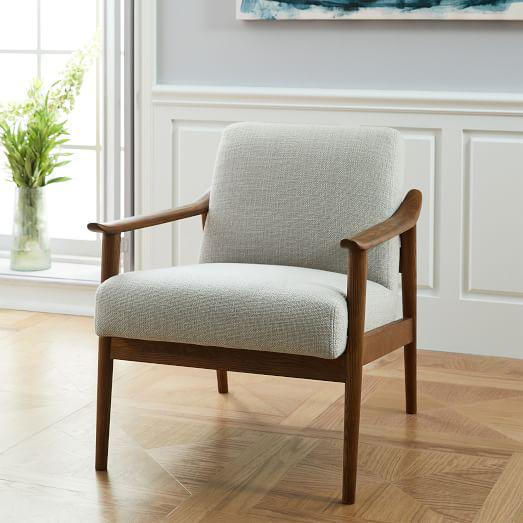chair: (81, 110, 439, 513)
